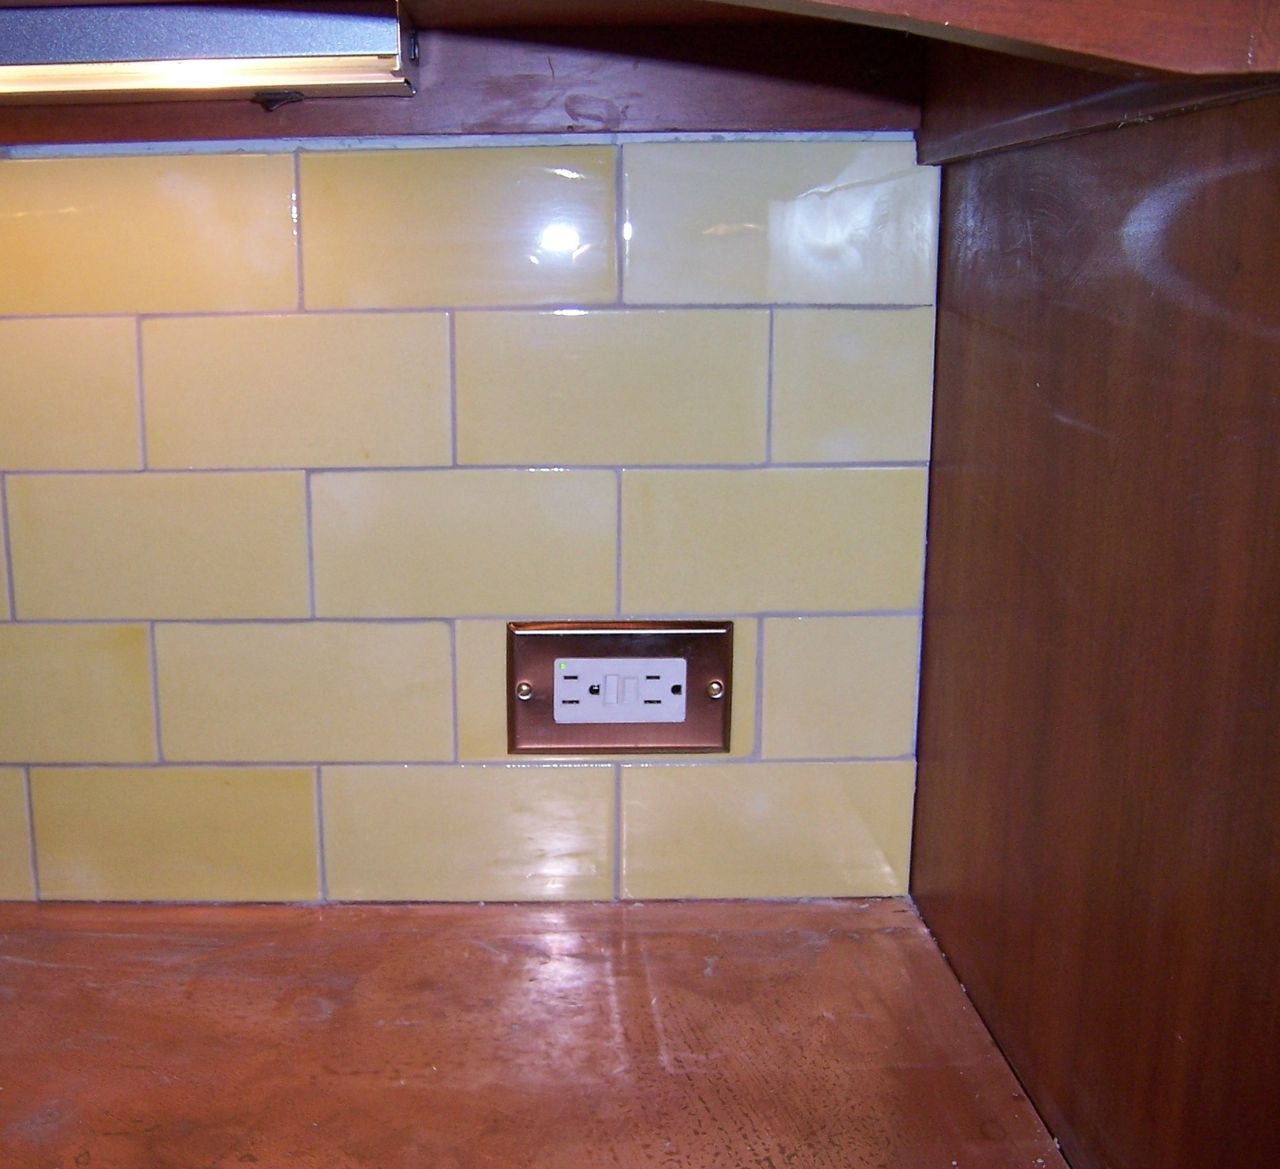outlet: (557, 670, 603, 709), (641, 672, 683, 709)
